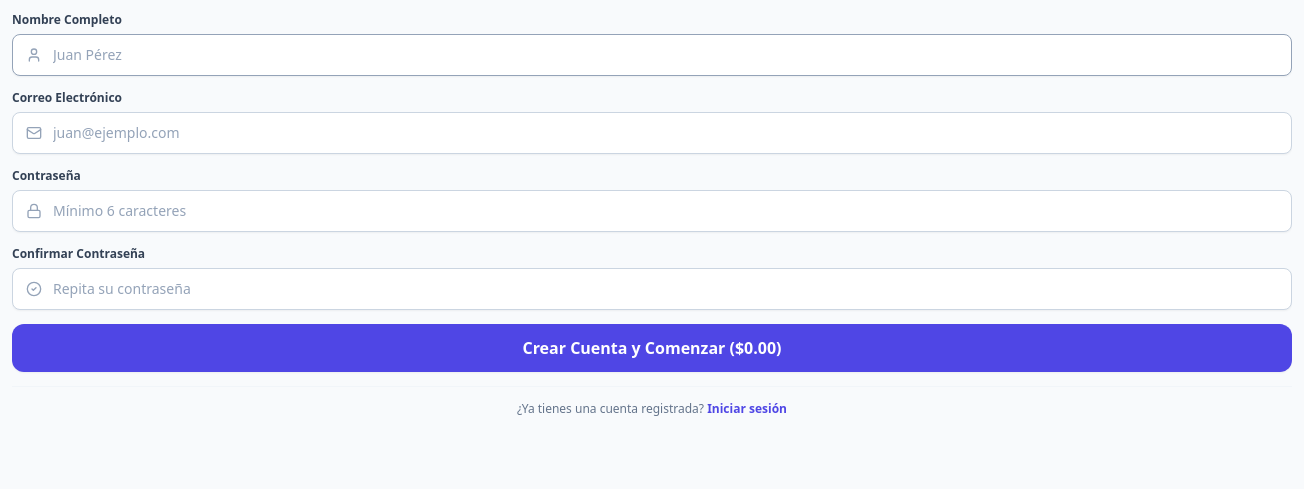
Authentication & Session Flows › debe mostrar error si las contraseñas no coinciden en el registro
The width and height of the screenshot is (1304, 489).
In the field labelled "Nombre Completo": (652, 55) [12,34,1292,76], type "Test User"
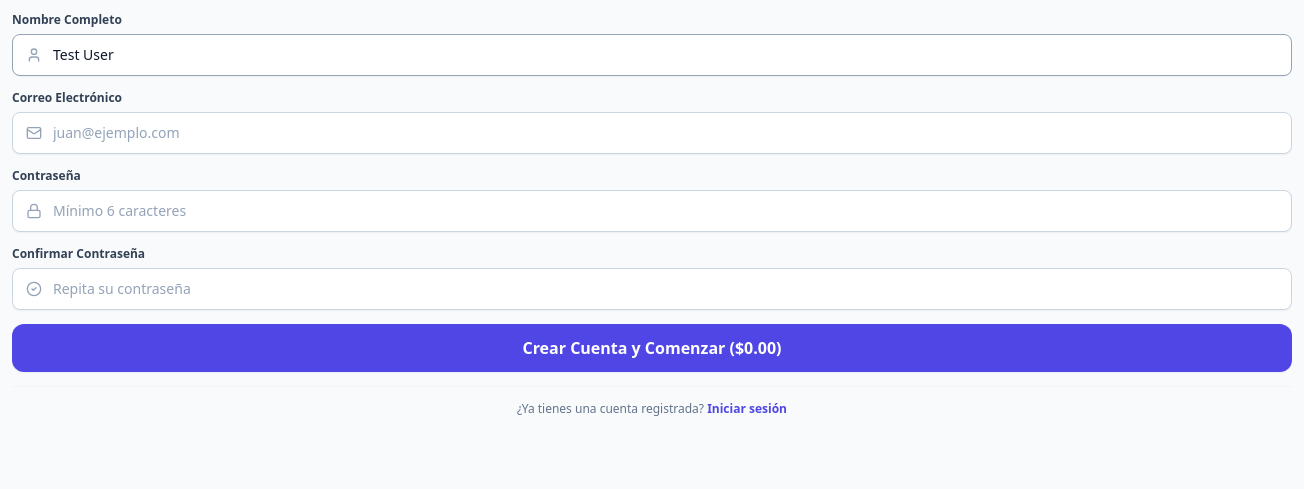
In the field labelled "Correo Electrónico": (652, 133) [12,112,1292,154], type "test@example.com"
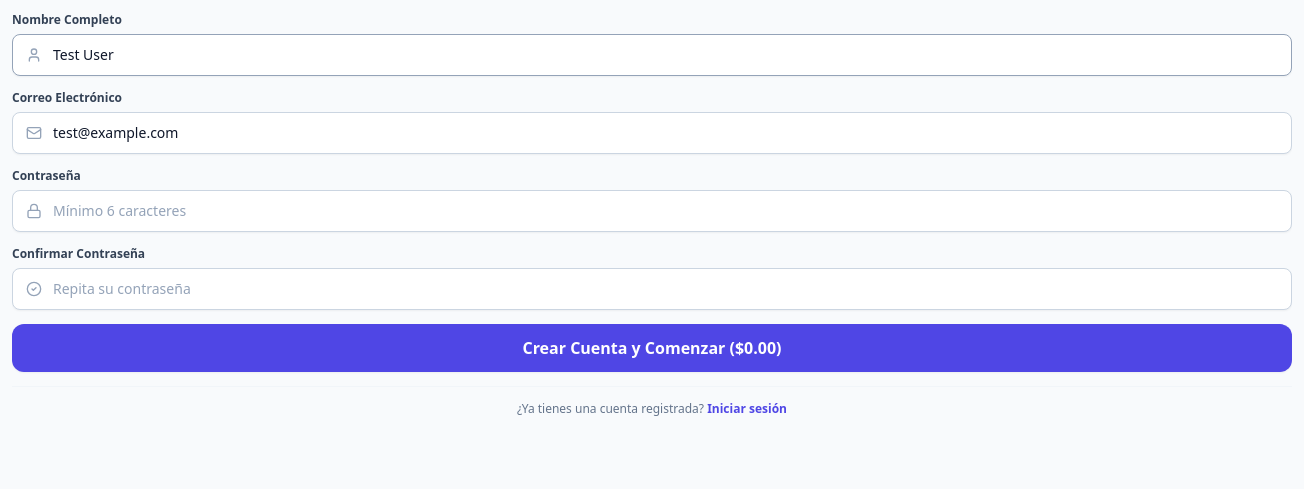
In the password field labelled "Contraseña": (652, 211) [12,190,1292,232], type "password123"
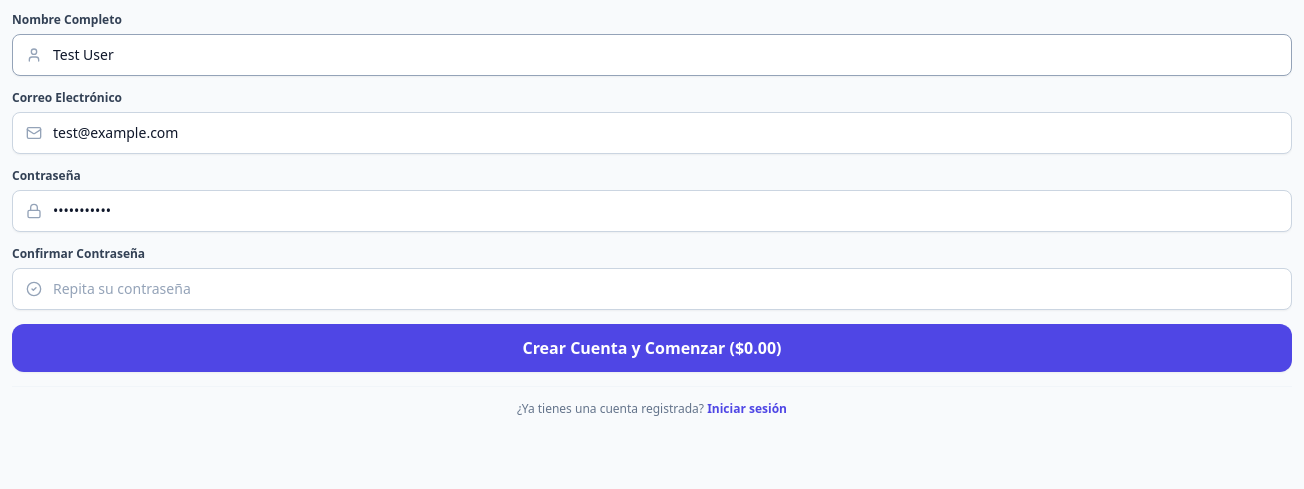
In the password field labelled "Confirmar Contraseña": (652, 289) [12,268,1292,310], type "different123"
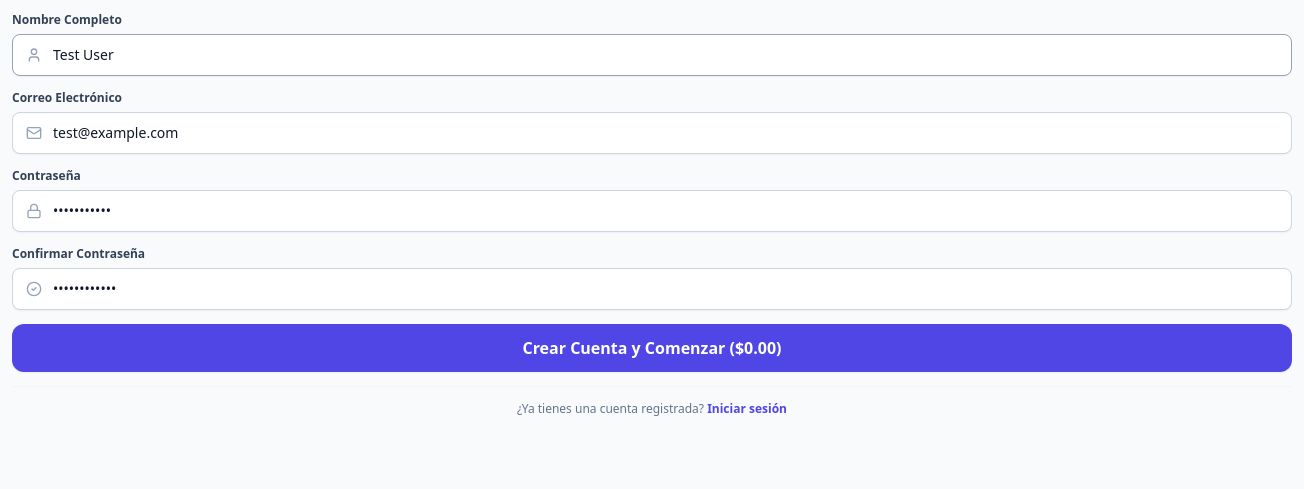
Click the button "Crear Cuenta y Comenzar ($0.00)": click(652, 348) [12,324,1292,372]
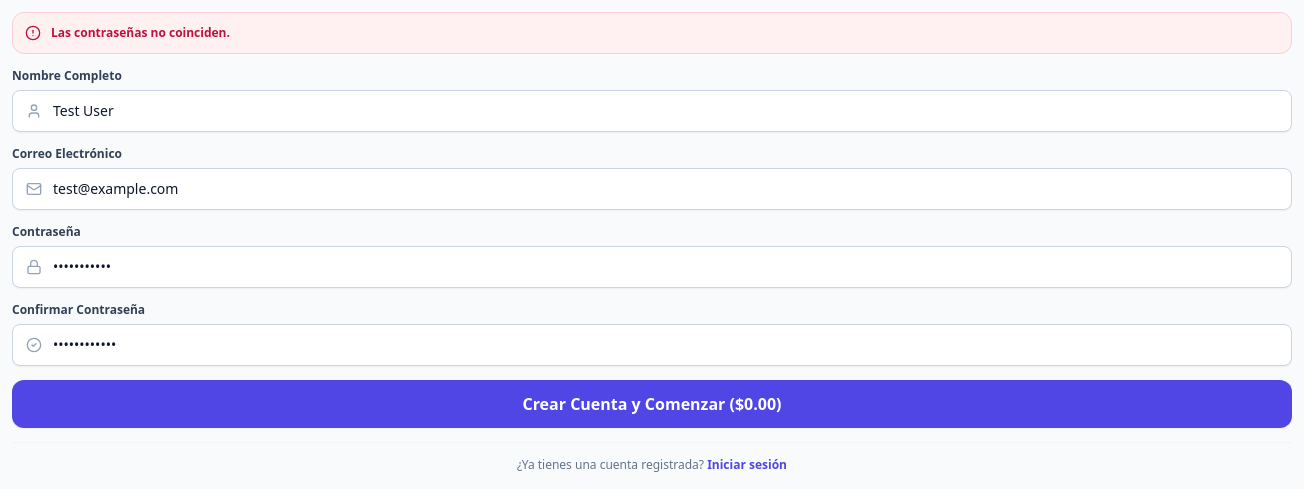
Now the text "Las contraseñas no coinciden." is shown, box [51,25,230,41]
